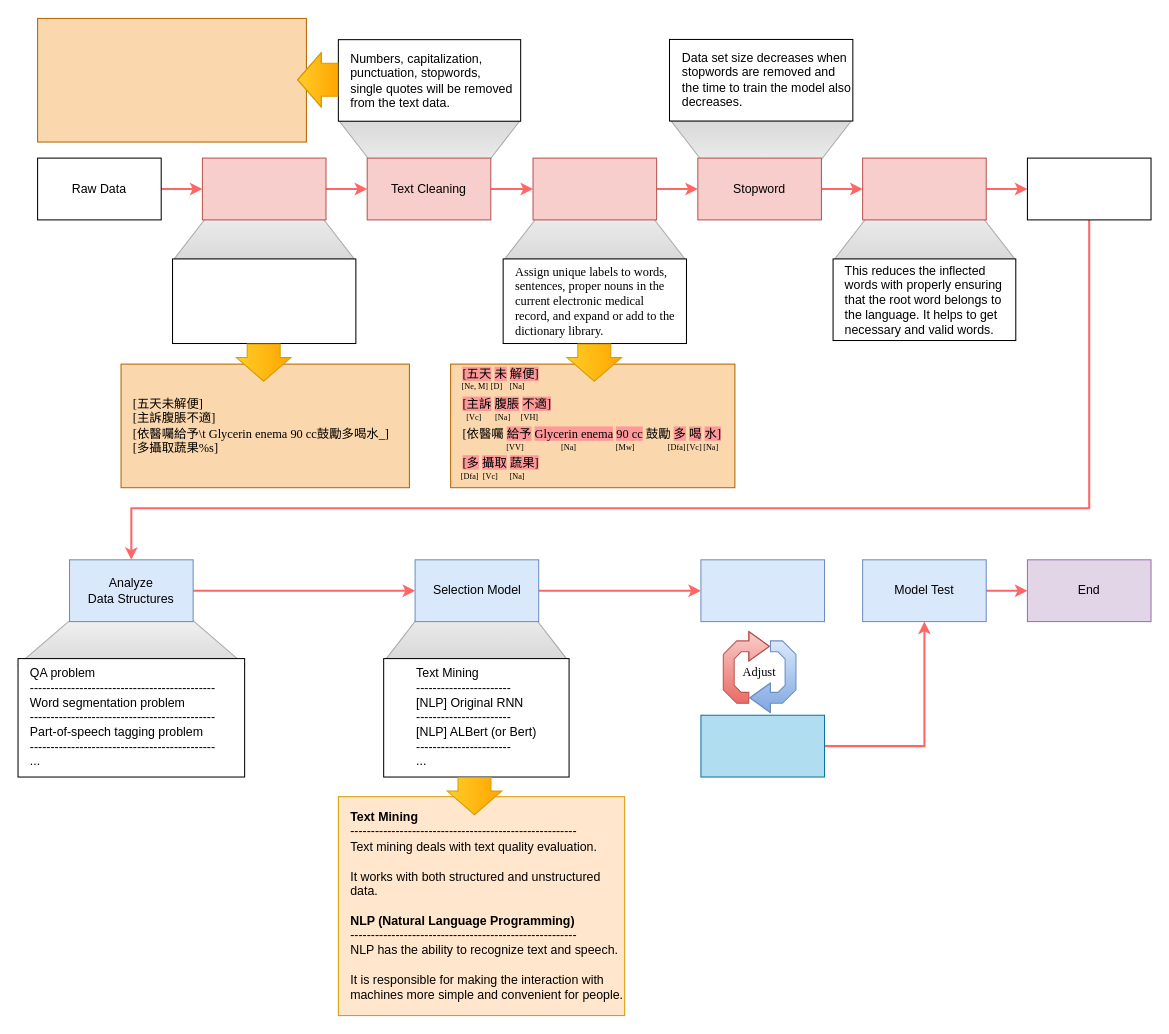
Some shapes in this 1169 by 1034 pixel diagram are drawn without their labels. The centre of each missing label's shape, as x and y in pixels:
"[五天未解便] [主訴腹脹不適] [依醫囑給予Glycerin enema 90 cc鼓勵多喝水] [多攝取蔬果]" belongs at [171,79].
"Cleaned Data" belongs at [1088,188].
"Data Annotation" belongs at [594,188].
"E.g. 五天未解便，主訴腹脹不適，依醫囑給予\t Glycerin enema 90 cc鼓勵多喝水_，多攝取蔬果%s。" belongs at [263,301].
"Lemmatization" belongs at [924,188].
"Model Evaluation (Validation data)" belongs at [762,745].
"Model Train" belongs at [762,590].
"Tokenization" belongs at [263,188].
